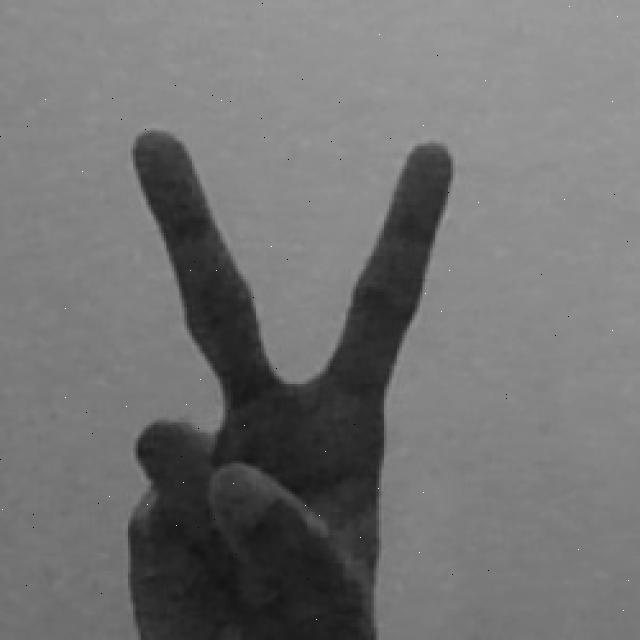V: (108, 127, 462, 628)
